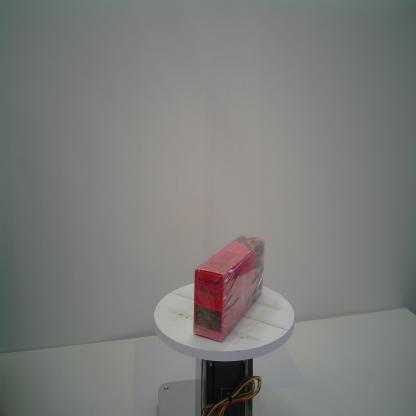Instant Drink: (193, 233, 265, 342)
